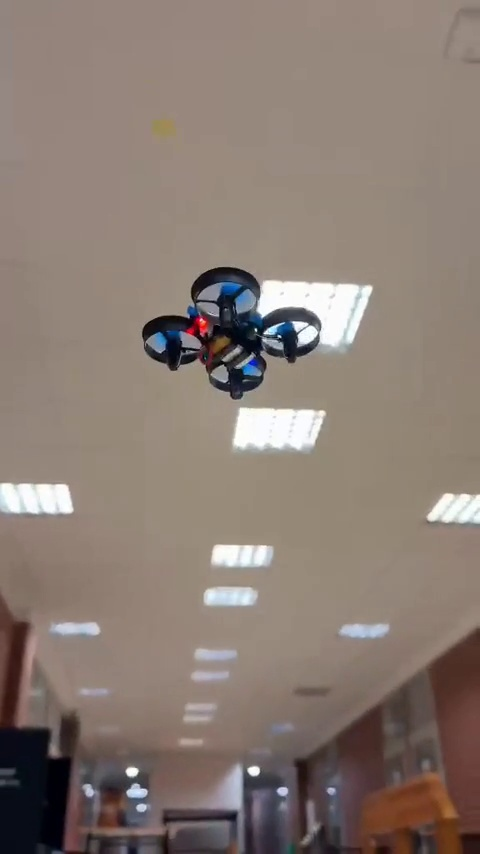drone: (140, 271, 334, 402)
